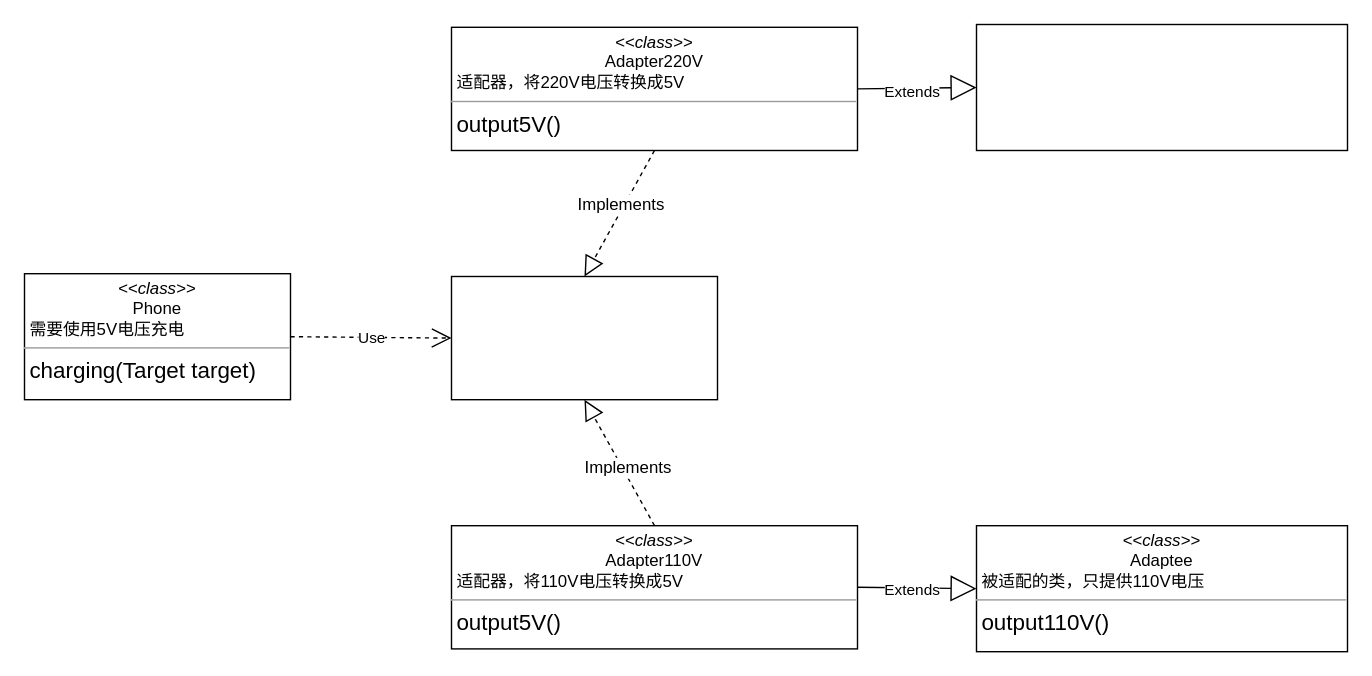
Some shapes in this 1372 by 676 pixel diagram are drawn without their labels. The centre of each missing label's shape, as x and y in pixels:
"<<class>> Adaptee220V 被适配的类，只提供220V电压 output220V()" belongs at point 1161,86.
"<<Interface>> Target 接口，提供5V充电的方法 output5V()" belongs at point 584,337.
